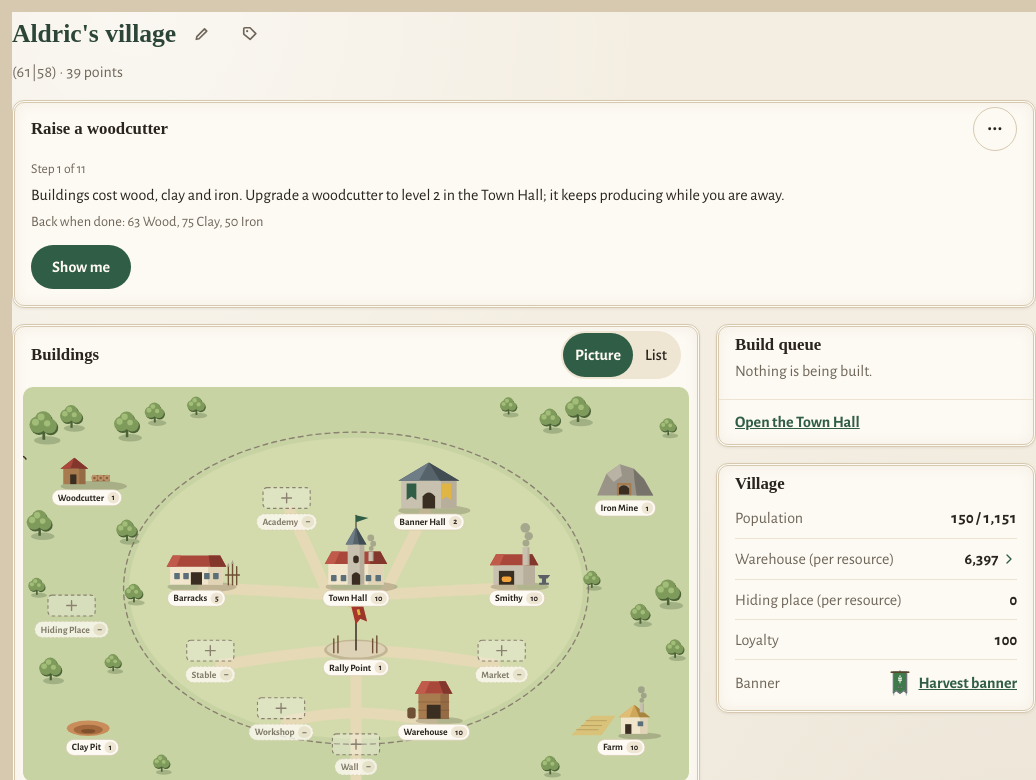
Test: the tutorial card on the village page › stops the tutorial from the menu
The width and height of the screenshot is (1036, 780).
Click the button named "More for the tutorial". click: {"x": 995, "y": 129}
box: [973,107,1017,151]
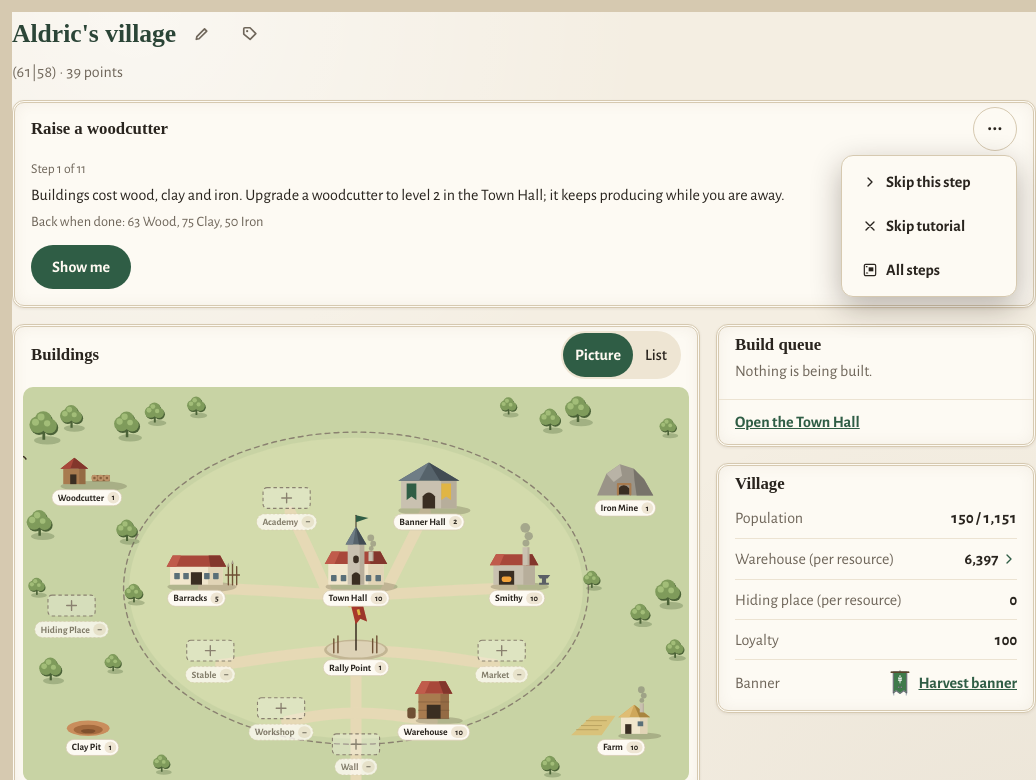
Click the button "Skip tutorial". click: {"x": 929, "y": 226}
box: [846,204,1012,248]
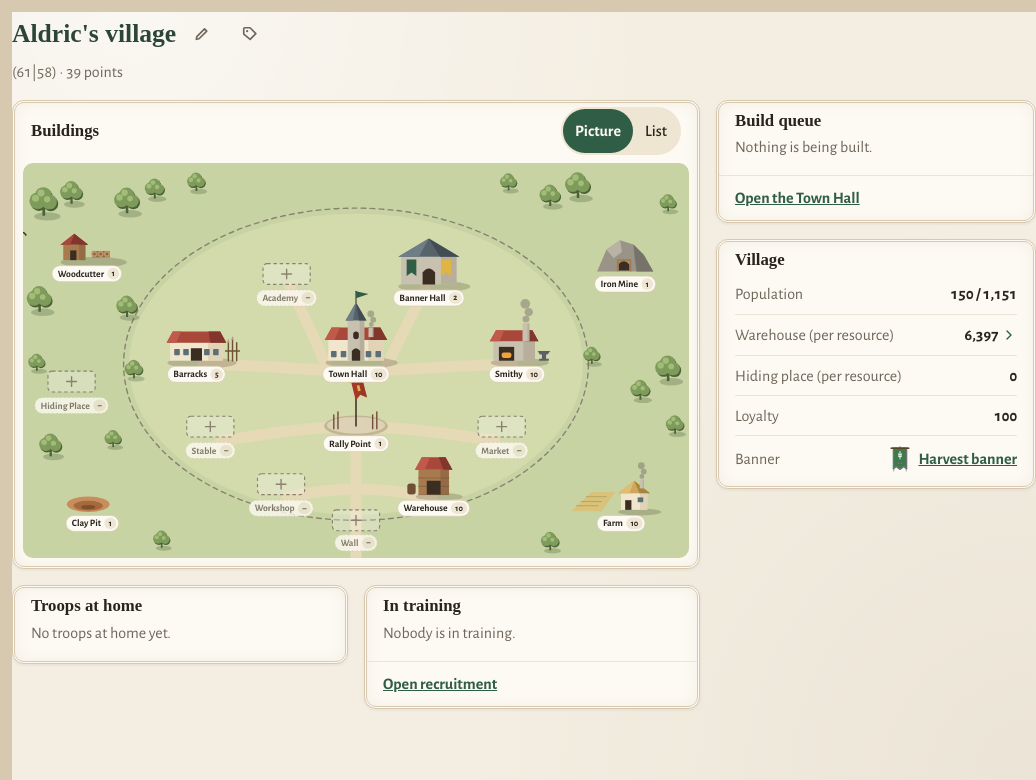
Expected: the text "Step 1 of 11" is gone
